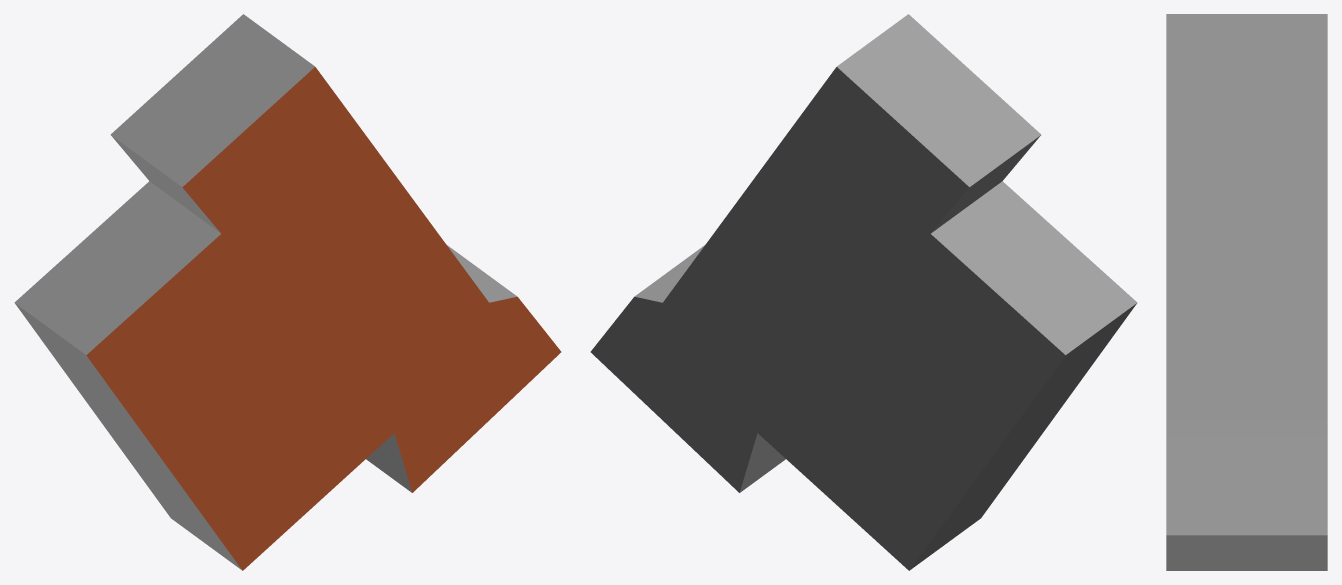
The model's file is construction_3185_assumed_A_Casa_h6m.obj.
3 renders of one model, left to right at view 1: azimuth 30°, elevation 25°; view 2: azimuth 150°, elevation 25°; view 3: azimuth 270°, elevation 25°, orthographic. The views are drawn at different scales.
Parts seen in each view (by area): view 1: construction_3185_assumed_A_Casa; view 2: construction_3185_assumed_A_Casa; view 3: construction_3185_assumed_A_Casa.
Part boxes in pixels (box(x1,y1,x2,y2)): construction_3185_assumed_A_Casa: box(14, 14, 561, 570); construction_3185_assumed_A_Casa: box(590, 14, 1137, 570); construction_3185_assumed_A_Casa: box(1166, 14, 1327, 570).
Size of the model in its own units: 22.88 by 22.39 by 6.
